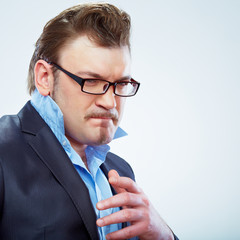young: (26, 10, 142, 140)
